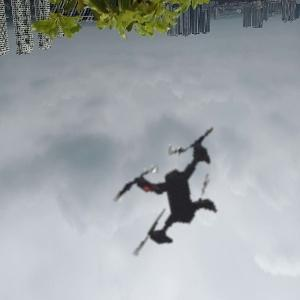drone: (69, 86, 281, 298)
